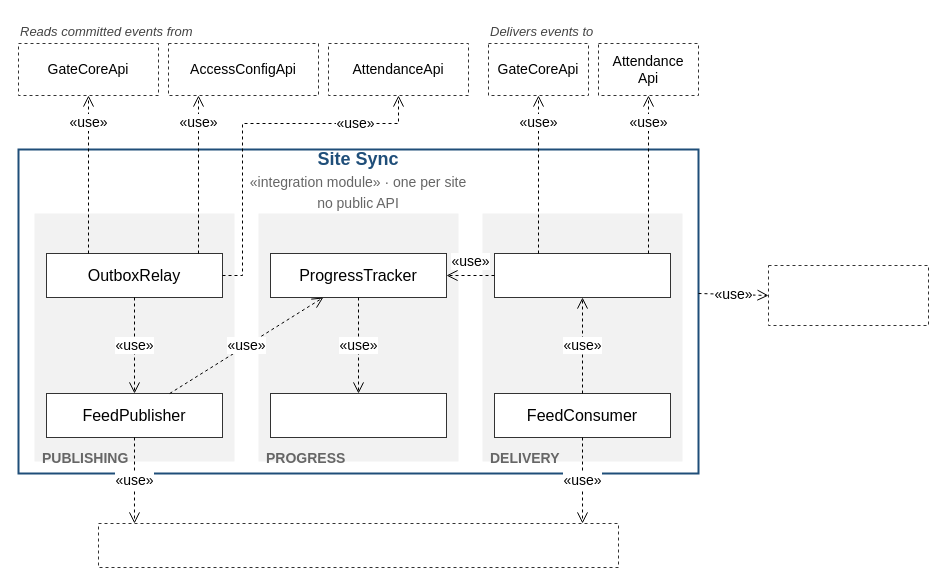
Image size: 946x585. Some labels were removed from this diagram. Here are the shapes that lost their labels. From the top down, the centre of each, then its label:
(582,275): FeedDelivery
(848,295): AuditApi HealthApi
(358,415): SyncProgressRepo
(358,545): Message broker (infrastructure, at-least-once)
